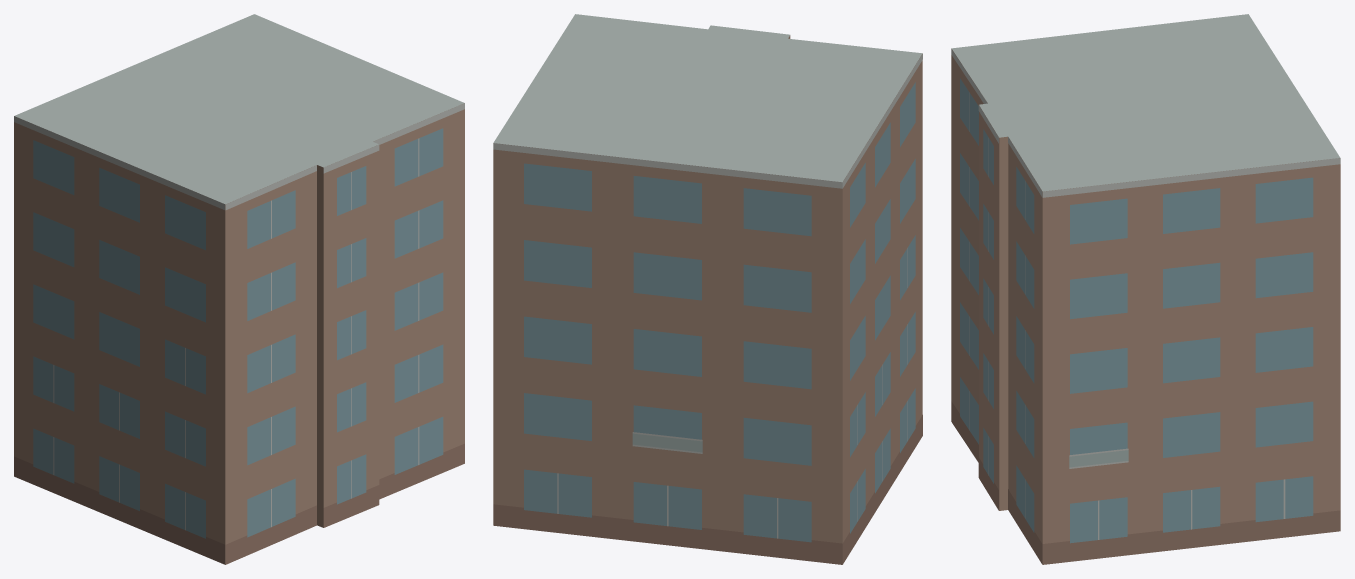
The model's file is survey-upis-32715376.glb.
3 views of the same model, side by side, from view 1: azimuth 30°, elevation 25°; view 2: azimuth 150°, elevation 25°; view 3: azimuth 270°, elevation 25° (orthographic). The views are drawn at different scales.
Visible parts, largest first — view 1: survey-upis-32715376.tmp; view 2: survey-upis-32715376.tmp; view 3: survey-upis-32715376.tmp.
Part boxes in pixels (x1,y1,x2,y2): survey-upis-32715376.tmp: [14, 14, 464, 564]; survey-upis-32715376.tmp: [493, 14, 922, 564]; survey-upis-32715376.tmp: [951, 14, 1340, 564].
Bounding box in the file's own units: 14.7 × 14.4 × 13.61.
